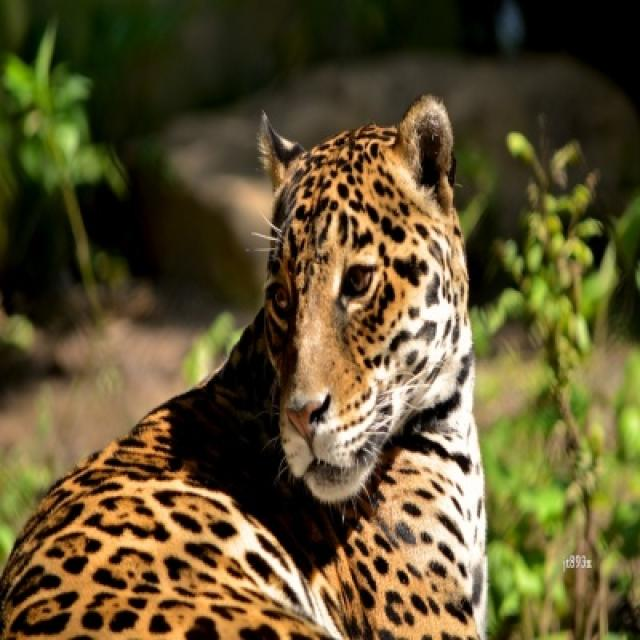Jaguar: (0, 94, 486, 638)
